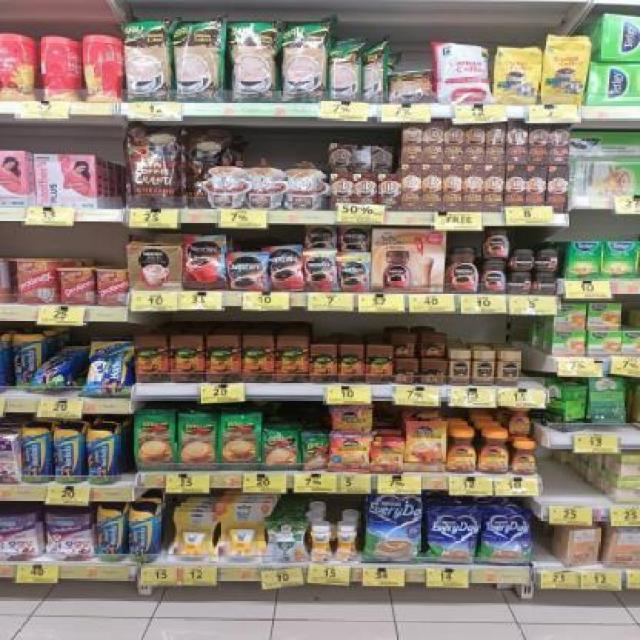Coffee: (184, 236, 228, 290), (408, 422, 447, 473), (227, 254, 269, 292), (268, 248, 304, 291), (445, 247, 477, 294), (330, 435, 371, 471), (304, 252, 338, 292), (447, 430, 476, 472), (478, 431, 507, 473), (338, 254, 370, 292), (334, 405, 372, 433), (480, 260, 506, 293), (511, 442, 537, 475), (474, 350, 496, 386), (450, 350, 471, 386), (497, 350, 519, 384), (484, 229, 510, 257), (510, 407, 532, 435), (512, 249, 533, 270), (535, 275, 557, 294), (508, 275, 530, 293), (536, 252, 556, 271)
